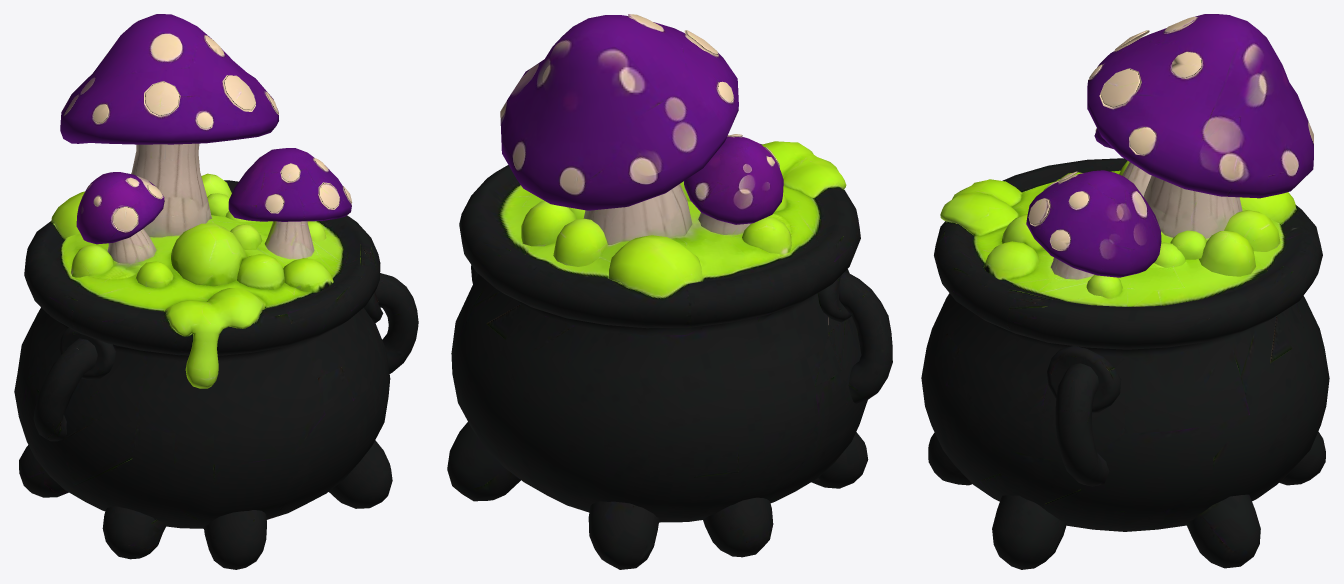
Rendered from halloween_cauldron_planter.glb.
3 renders of one model, left to right at view 1: azimuth 30°, elevation 25°; view 2: azimuth 150°, elevation 25°; view 3: azimuth 270°, elevation 25°, orthographic. The views are drawn at different scales.
Visible parts, largest first — view 1: furniture-fit; view 2: furniture-fit; view 3: furniture-fit.
Part boxes in pixels (x1,y1,x2,y2): furniture-fit: [14, 14, 418, 569]; furniture-fit: [447, 14, 892, 569]; furniture-fit: [921, 14, 1329, 569].
Bounding box in the file's own units: 1 × 1.14 × 0.868.
Materials: 1 (1 with a texture image).
